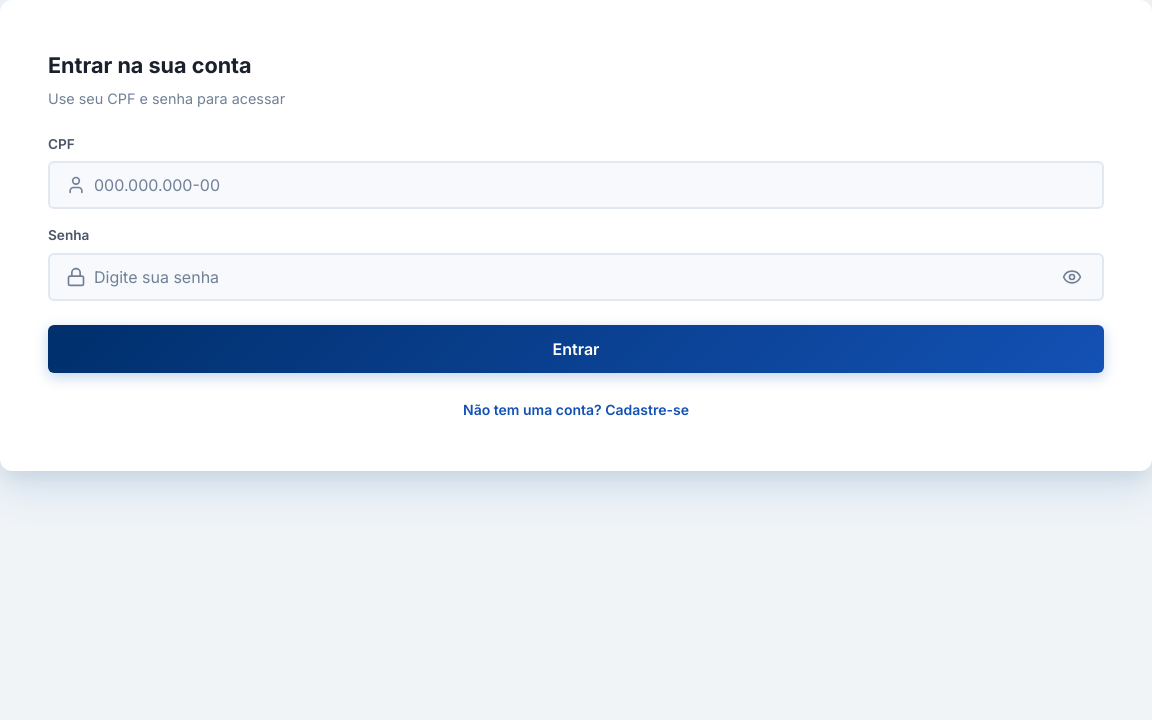
🔐 LoginForm — Validação de Formulário › TC-L02 | Deve exibir erro se tentar submeter com campos vazios (Zod)
What coordinates should you click on to do the following:
click the button "Entrar"
I would click on:
 (576, 349)
Its box is [48,325,1104,373].
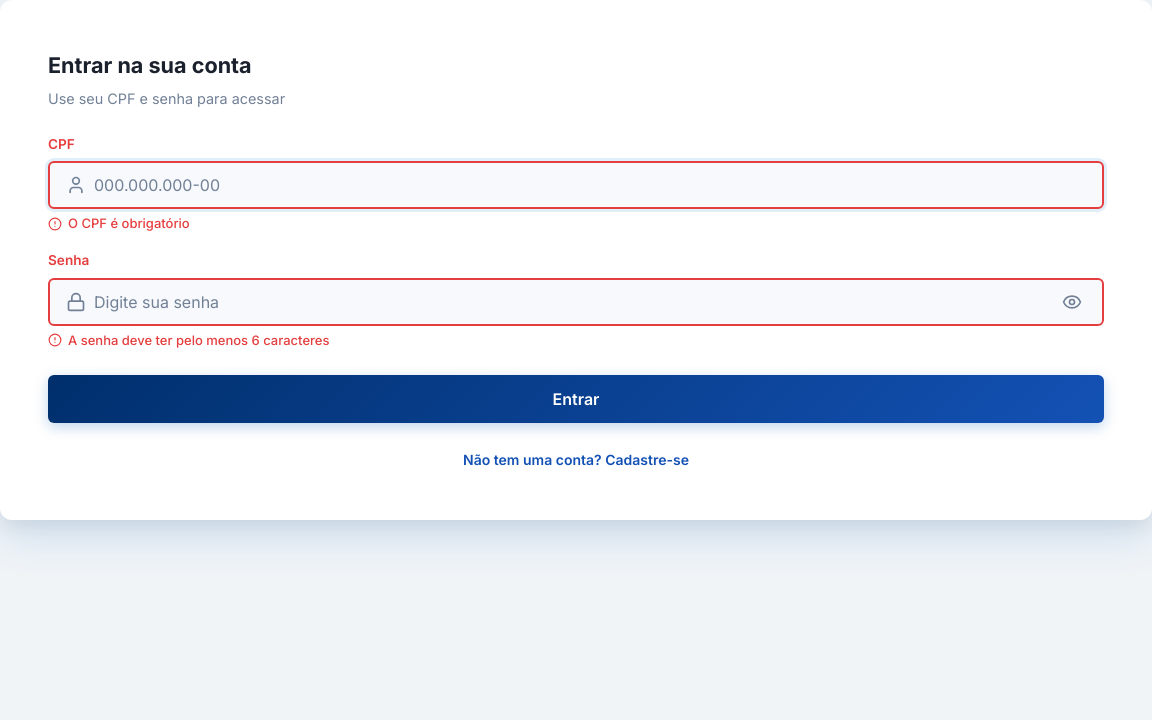
Expected: the text "O CPF é obrigatório" is shown, [48,215,190,231]
Expected: the text "A senha deve ter pelo menos 6 caracteres" is shown, [48,332,330,348]
